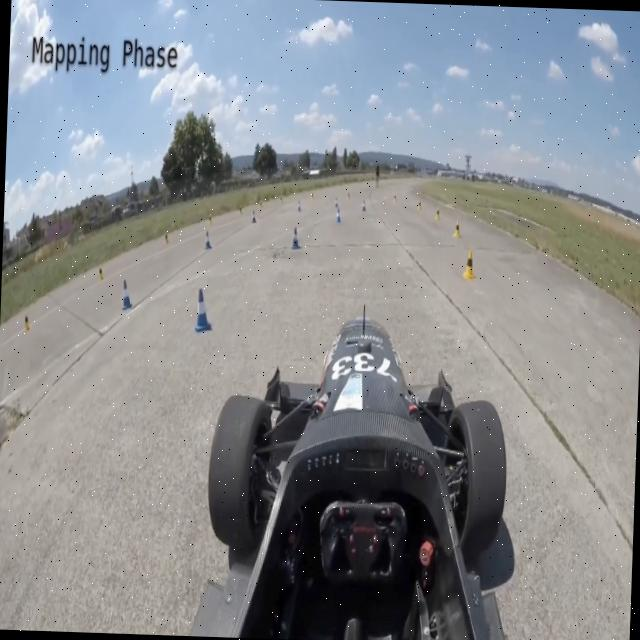blue_cone: (188, 285, 218, 332), (288, 220, 302, 250), (332, 200, 343, 226), (358, 193, 368, 212)
yellow_cone: (462, 252, 476, 280), (452, 218, 464, 234), (433, 200, 441, 223)
